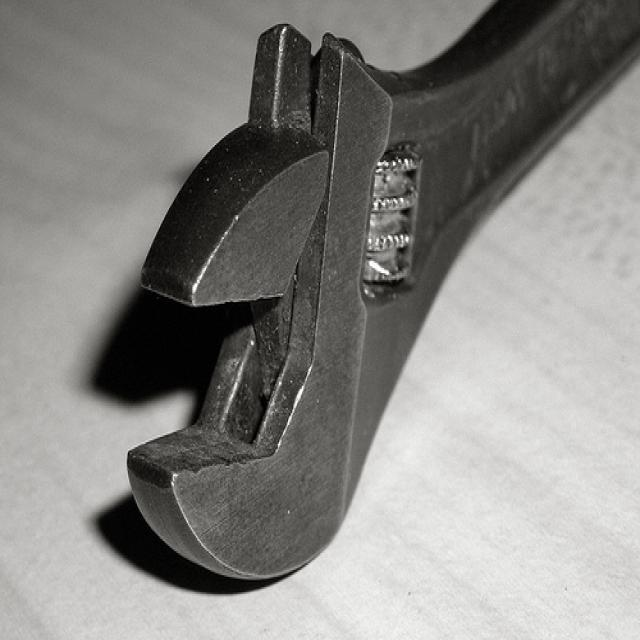wrench: (120, 0, 640, 591)
